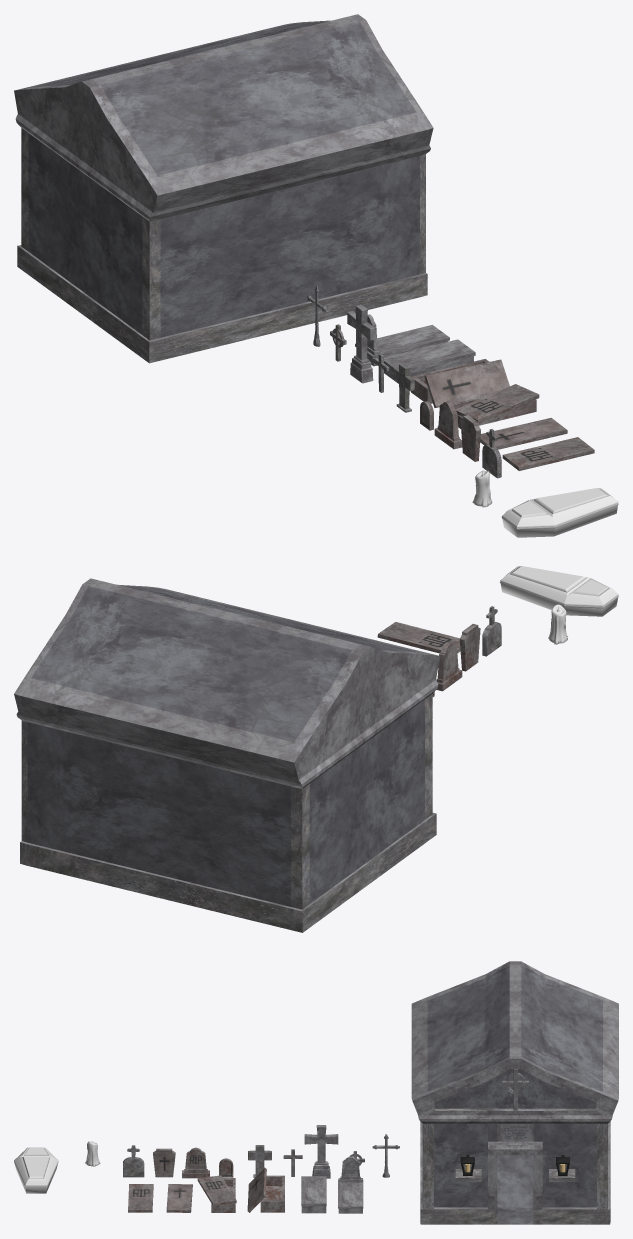
Rendered from Cemiterio.fbx.
3 renders of one model, top to bottom at view 1: azimuth 30°, elevation 25°; view 2: azimuth 150°, elevation 25°; view 3: azimuth 270°, elevation 25°, orthographic. The views are drawn at different scales.
Visible parts, largest first — view 1: Mausoleu, Caixão, Sepultura_Aberta, Sepultura, Jazigo, Jazigo/Lápide, tampa_RIP, tampa_cruz, Cruz_Pilar_Marmore, Lapide_RIP, Lapide_Cruz; view 2: Mausoleu, Caixão, tampa_RIP, Lapide_RIP, Lapide_Cruz, Lapide_Desgastada, Vela; view 3: Mausoleu, Caixão, Sepultura_Aberta, Jazigo/Lápide, Sepultura, Jazigo, Cruz_Pilar_Marmore, tampa_cruz, tampa_RIP, Lapide_RIP, Lapide_Cruz, Lapide_Desgastada (+2 smaller).
Part boxes in pixels (bbox=[...]): Mausoleu: bbox=[14, 14, 433, 363]; Caixão: bbox=[501, 488, 618, 537]; Sepultura_Aberta: bbox=[411, 359, 509, 407]; Sepultura: bbox=[453, 384, 539, 428]; Jazigo: bbox=[384, 339, 475, 383]; Jazigo/Lápide: bbox=[355, 314, 449, 366]; tampa_RIP: bbox=[502, 437, 594, 470]; tampa_cruz: bbox=[480, 417, 567, 449]; Cruz_Pilar_Marmore: bbox=[347, 304, 376, 383]; Lapide_RIP: bbox=[434, 401, 462, 449]; Lapide_Cruz: bbox=[460, 415, 480, 461]; Mausoleu: bbox=[14, 578, 439, 932]; Caixão: bbox=[500, 566, 618, 616]; tampa_RIP: bbox=[377, 622, 460, 653]; Lapide_RIP: bbox=[436, 642, 462, 691]; Lapide_Cruz: bbox=[459, 624, 480, 671]; Lapide_Desgastada: bbox=[482, 606, 501, 656]; Vela: bbox=[548, 604, 567, 644]; Mausoleu: bbox=[411, 961, 618, 1224]; Caixão: bbox=[14, 1147, 58, 1193]; Sepultura_Aberta: bbox=[247, 1167, 284, 1212]; Jazigo/Lápide: bbox=[338, 1156, 363, 1213]; Sepultura: bbox=[197, 1175, 236, 1212]; Jazigo: bbox=[301, 1176, 326, 1213]; Cruz_Pilar_Marmore: bbox=[304, 1125, 338, 1178]; tampa_cruz: bbox=[166, 1184, 192, 1212]; tampa_RIP: bbox=[128, 1184, 153, 1212]; Lapide_RIP: bbox=[182, 1147, 209, 1178]; Lapide_Cruz: bbox=[153, 1148, 175, 1177]; Lapide_Desgastada: bbox=[123, 1145, 144, 1177].
Size of the model in its own units: 8935 by 6649 by 21718.
